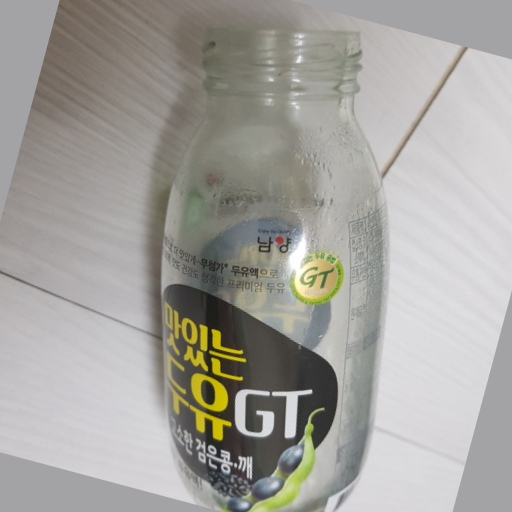Glass_4: (161, 29, 390, 512)
